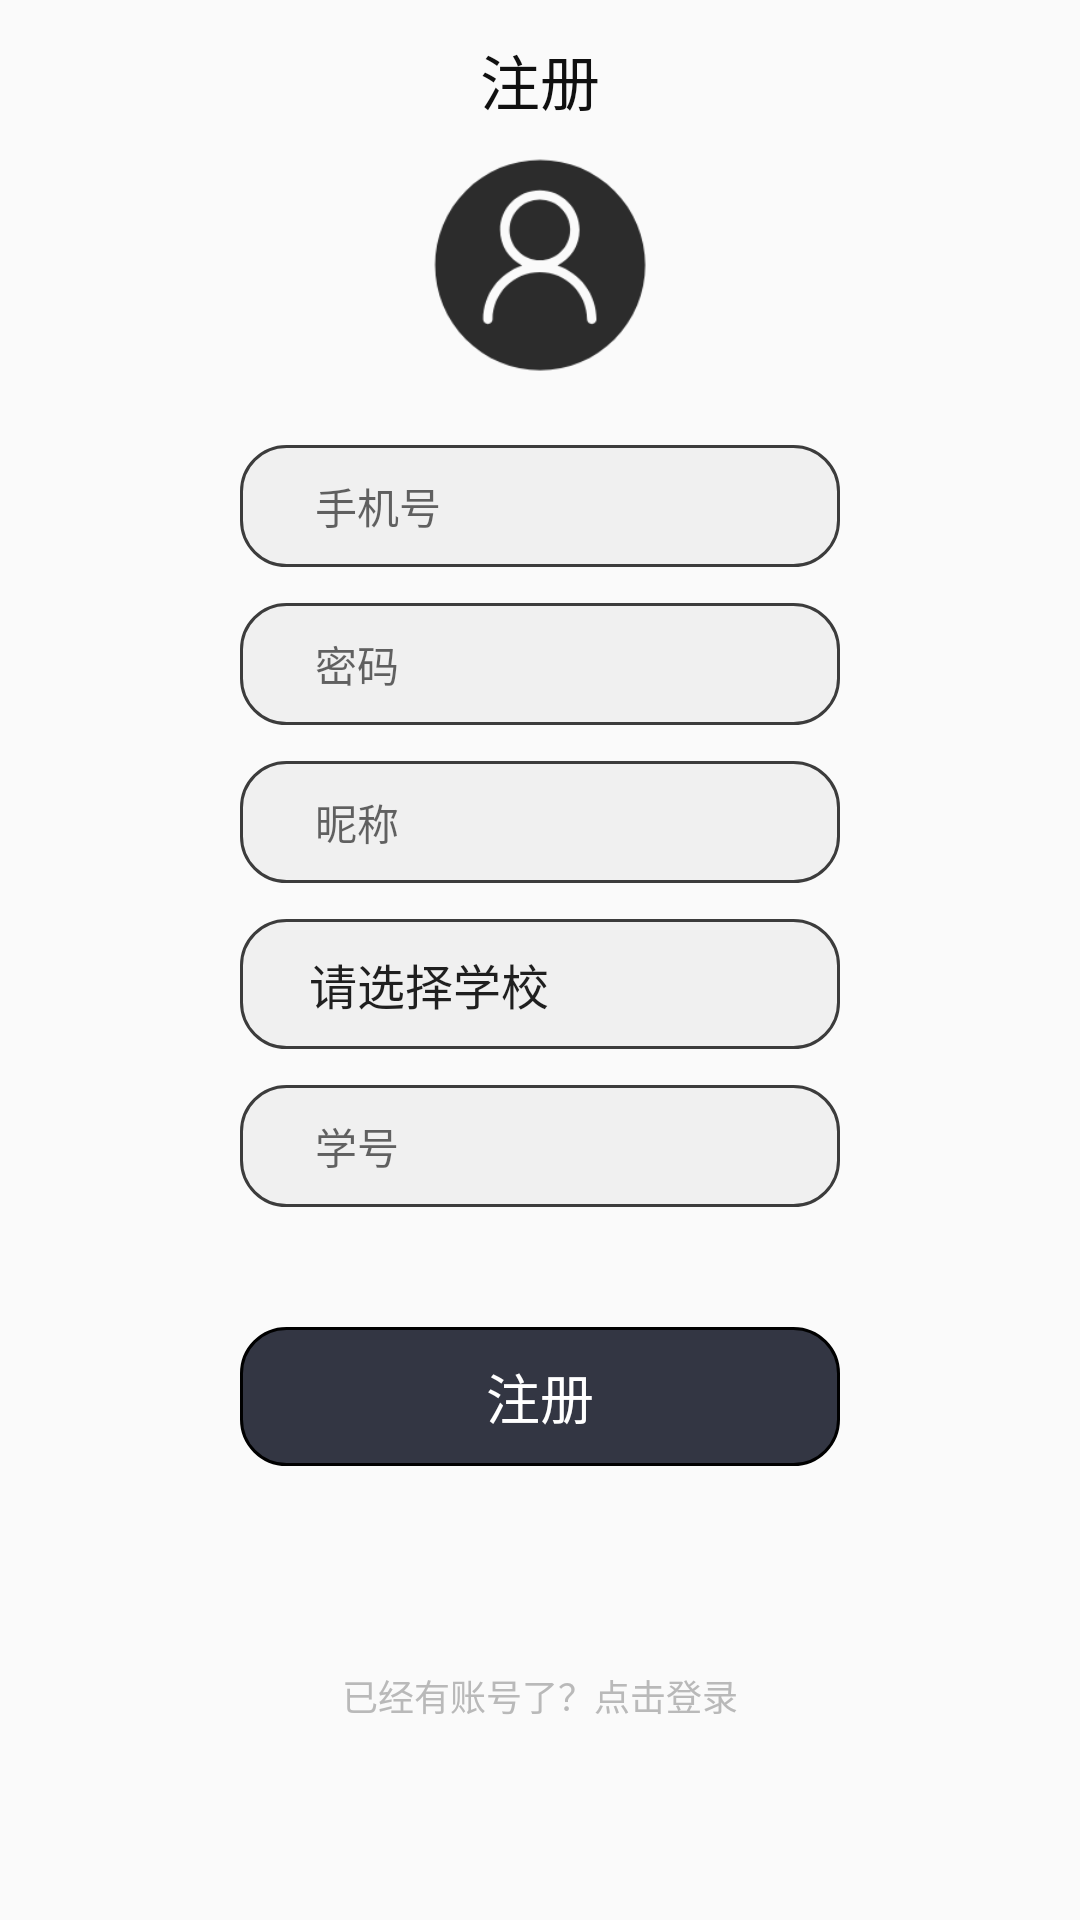

Icons on this 1080 x 1920 Android screen, each with the point to tap as point (x, y):
re people: point (540, 265)
